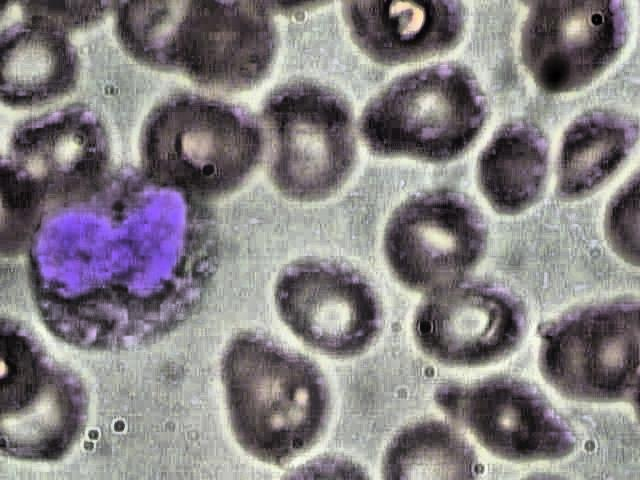RBC: (222, 334, 328, 464), (142, 92, 260, 198), (363, 61, 483, 165), (258, 83, 359, 201), (274, 261, 380, 357), (515, 0, 629, 88), (466, 382, 578, 471), (385, 194, 487, 287), (413, 283, 525, 367), (12, 107, 111, 188), (479, 122, 553, 213), (0, 23, 77, 108), (559, 113, 636, 193)
WBC: (30, 160, 215, 351)
